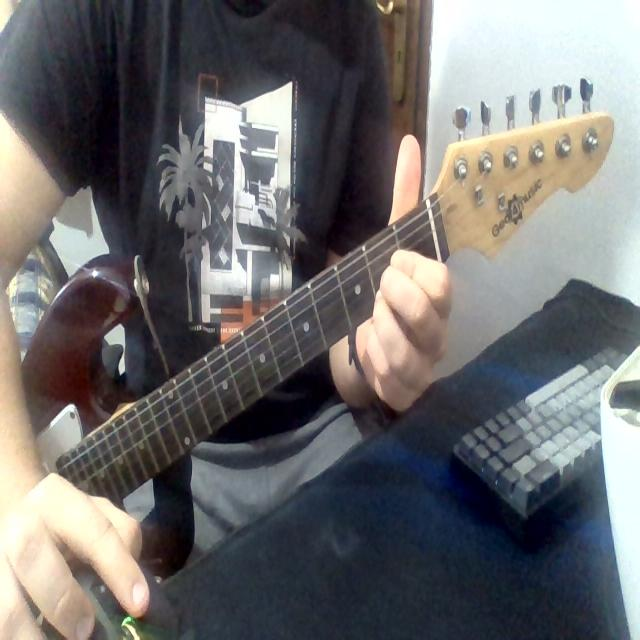Am: (359, 216, 456, 385)
